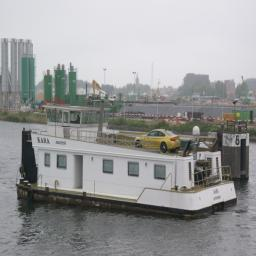tugboat: (16, 88, 239, 223)
